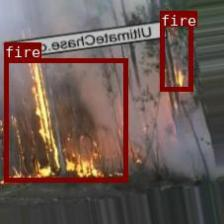fire: (4, 58, 127, 181), (160, 10, 191, 91)
